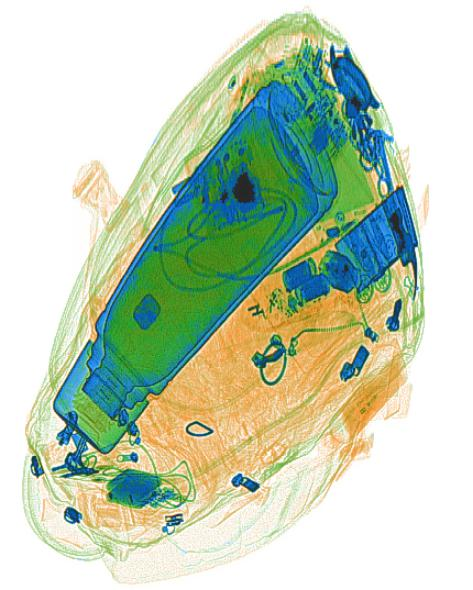battery: (279, 255, 331, 306)
plasticBottleWithaNozzle: (313, 332, 407, 464)
